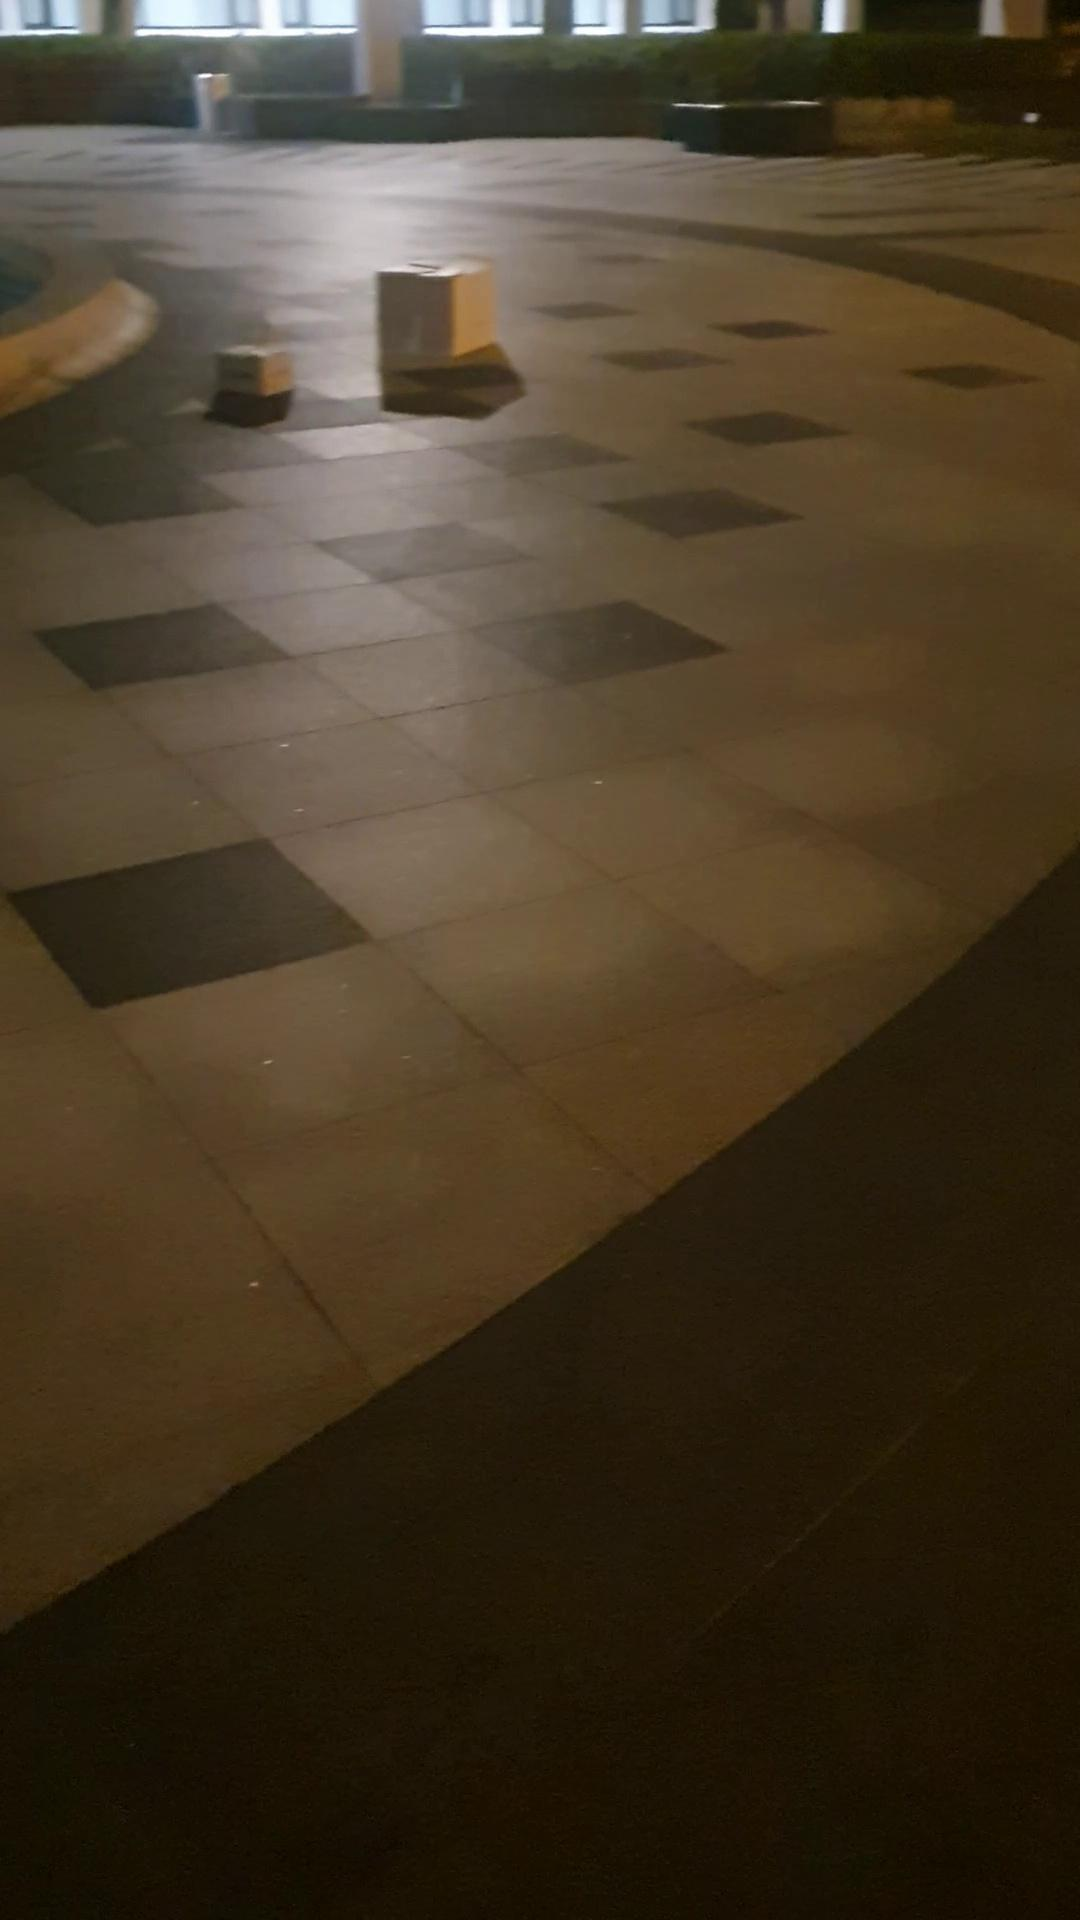Box: (368, 251, 512, 375), (214, 335, 305, 410)
